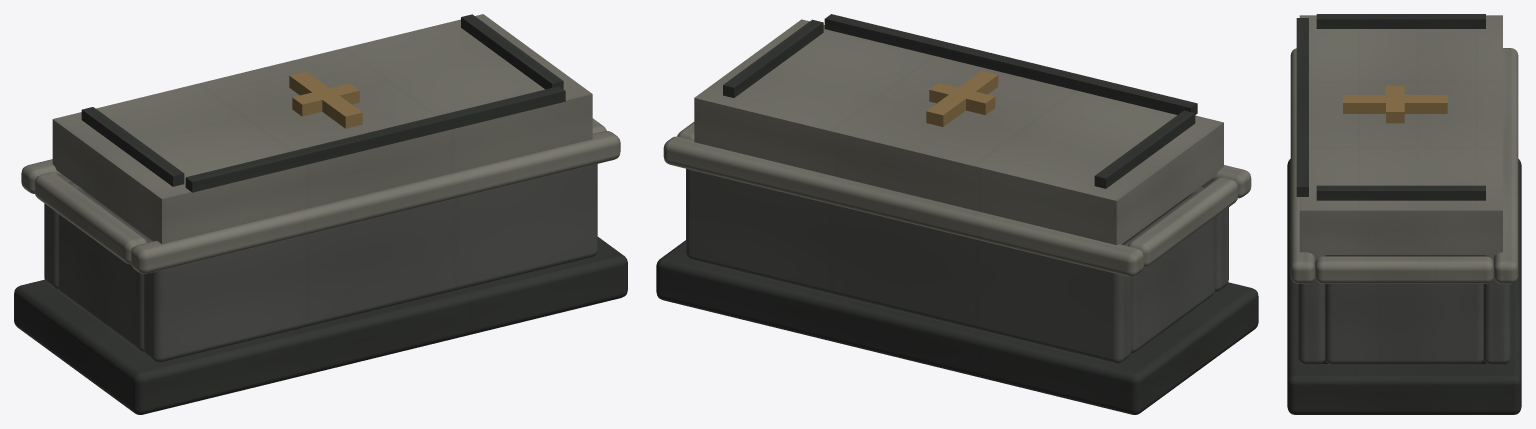
The model's file is sk-sarcophagus.glb.
The picture shows the model from 3 angles, left to right: view 1: azimuth 30°, elevation 25°; view 2: azimuth 150°, elevation 25°; view 3: azimuth 270°, elevation 25°; orthographic projection. The views are drawn at different scales.
Parts seen in each view (by area): view 1: sarcophagus-lid, interior:sarcophagus-static-sarcophagus-stone, sarcophagus-base, interior:sarcophagus-static-sarcophagus-lid, lid-border-front, lid-border-left, lid-border-right, lid-carving-cross, lid-carving-crossbar; view 2: sarcophagus-lid, interior:sarcophagus-static-sarcophagus-stone, sarcophagus-base, interior:sarcophagus-static-sarcophagus-lid, lid-border-front, lid-border-left, lid-border-right, lid-carving-cross, lid-carving-crossbar; view 3: sarcophagus-lid, interior:sarcophagus-static-sarcophagus-stone, sarcophagus-base, interior:sarcophagus-static-sarcophagus-lid, lid-border-right, lid-border-left, lid-border-front, lid-carving-cross, lid-carving-crossbar, interior:sarcophagus-static-sarcophagus-cavity.
Boxes of the visible parts, left/top/right/bottom form: sarcophagus-lid: left=52, top=14, right=592, bottom=244; interior:sarcophagus-static-sarcophagus-stone: left=44, top=164, right=597, bottom=362; sarcophagus-base: left=14, top=237, right=627, bottom=414; interior:sarcophagus-static-sarcophagus-lid: left=21, top=118, right=620, bottom=273; lid-border-front: left=185, top=86, right=565, bottom=192; lid-border-left: left=81, top=107, right=184, bottom=186; lid-border-right: left=461, top=14, right=563, bottom=89; lid-carving-cross: left=289, top=71, right=362, bottom=128; lid-carving-crossbar: left=292, top=83, right=359, bottom=116; sarcophagus-lid: left=694, top=19, right=1223, bottom=244; interior:sarcophagus-static-sarcophagus-stone: left=686, top=168, right=1228, bottom=363; sarcophagus-base: left=656, top=240, right=1258, bottom=414; interior:sarcophagus-static-sarcophagus-lid: left=663, top=122, right=1251, bottom=276; lid-border-front: left=824, top=14, right=1197, bottom=114; lid-border-left: left=1094, top=110, right=1195, bottom=188; lid-border-right: left=723, top=19, right=823, bottom=97; lid-carving-cross: left=926, top=71, right=998, bottom=126; lid-carving-crossbar: left=929, top=82, right=995, bottom=115; sarcophagus-lid: left=1299, top=15, right=1502, bottom=255; interior:sarcophagus-static-sarcophagus-stone: left=1298, top=255, right=1510, bottom=364; sarcophagus-base: left=1287, top=159, right=1521, bottom=414; interior:sarcophagus-static-sarcophagus-lid: left=1290, top=48, right=1518, bottom=283; lid-border-right: left=1316, top=185, right=1485, bottom=200; lid-border-left: left=1316, top=14, right=1485, bottom=28; lid-border-front: left=1296, top=18, right=1308, bottom=196; lid-carving-cross: left=1343, top=95, right=1447, bottom=113; lid-carving-crossbar: left=1386, top=86, right=1404, bottom=123; interior:sarcophagus-static-sarcophagus-cavity: left=1322, top=255, right=1486, bottom=363.
Bounding box in the file's own units: 1.72 × 0.74 × 0.76.
5 materials, 3 textured.
